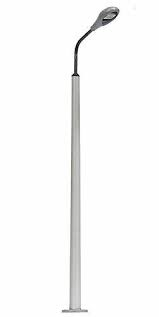light_pole: (65, 31, 88, 315)
